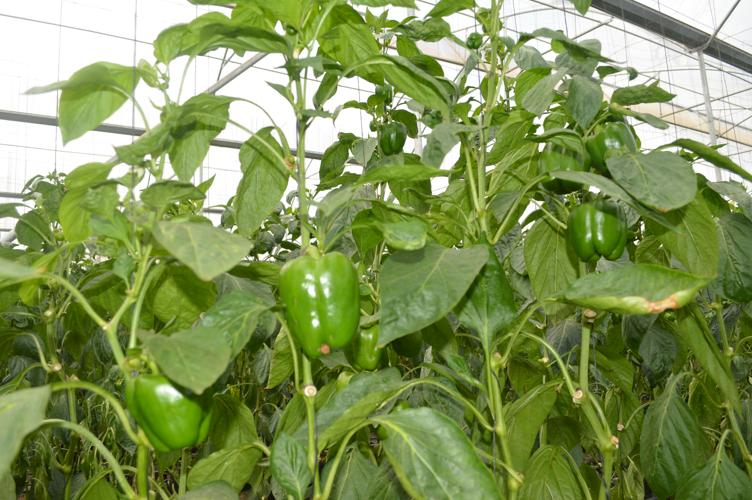BellPepper: (279, 253, 356, 354), (129, 372, 210, 447), (567, 204, 626, 258), (582, 119, 638, 167), (538, 140, 589, 189), (350, 322, 381, 372)
